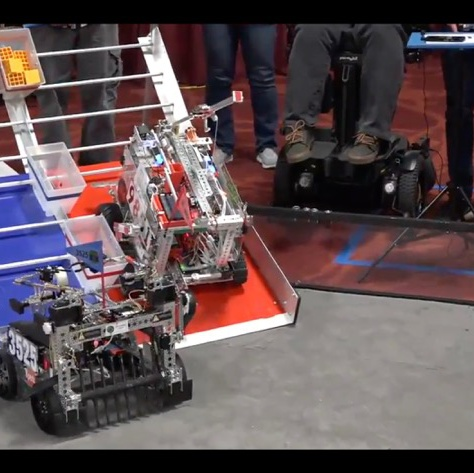robot: (6, 243, 197, 439), (96, 88, 252, 290)
